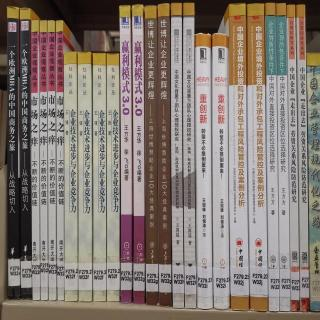book-spine: (226, 3, 253, 311), (246, 4, 268, 311), (178, 4, 198, 309), (194, 34, 214, 308), (274, 3, 291, 312), (156, 4, 173, 306), (212, 35, 230, 309), (286, 5, 302, 312), (130, 6, 146, 305), (17, 7, 33, 301), (5, 6, 21, 299), (265, 3, 280, 312), (75, 52, 93, 303), (144, 6, 159, 307), (118, 6, 133, 304), (170, 4, 184, 308), (63, 51, 79, 303), (297, 5, 310, 312), (92, 54, 107, 302), (305, 52, 319, 313), (106, 53, 120, 303), (47, 19, 58, 301), (30, 19, 40, 301), (40, 20, 49, 300), (55, 21, 64, 301)
